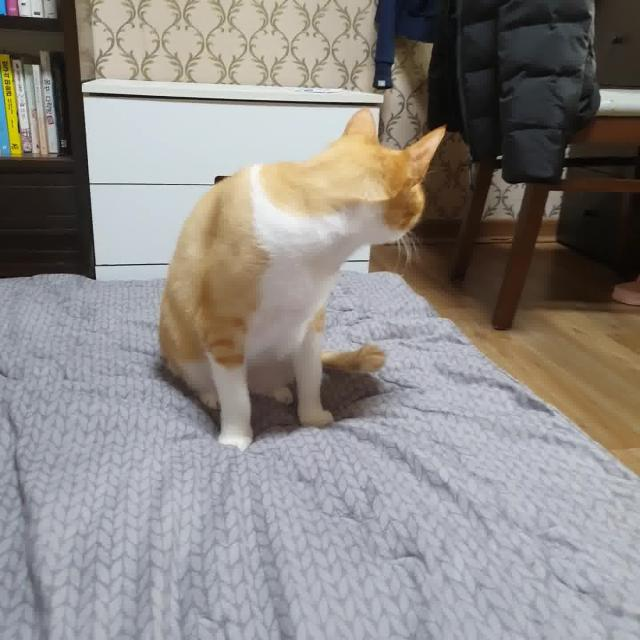cat: (148, 106, 451, 454)
